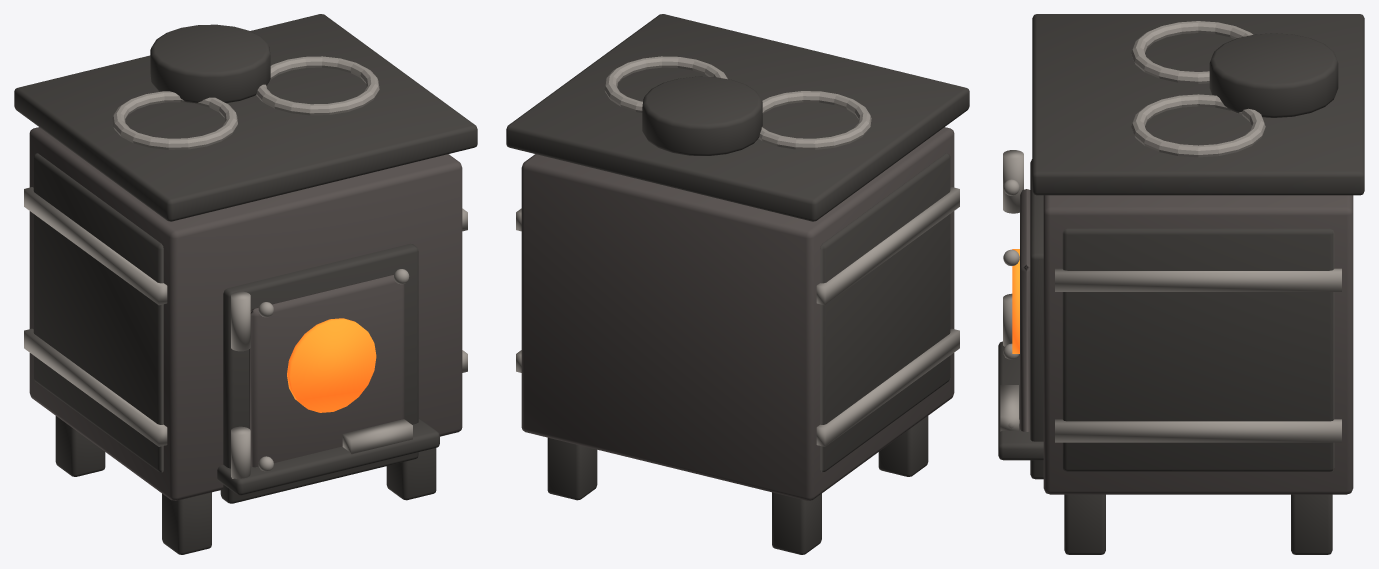
The model's file is wood-stove.glb.
3 views of the same model, side by side, from view 1: azimuth 30°, elevation 25°; view 2: azimuth 150°, elevation 25°; view 3: azimuth 270°, elevation 25° (orthographic). The views are drawn at different scales.
Visible parts, largest first — view 1: merged_soot, merged_metal, merged_metal_light, mica; view 2: merged_metal, merged_soot, merged_metal_light; view 3: merged_soot, merged_metal, merged_metal_light, mica.
Part boxes in pixels (<box>): merged_soot: <box>14,14,477,554</box>; merged_metal: <box>29,127,462,500</box>; merged_metal_light: <box>24,56,467,478</box>; mica: <box>287,318,376,412</box>; merged_metal: <box>521,127,954,500</box>; merged_soot: <box>506,14,969,554</box>; merged_metal_light: <box>516,56,959,446</box>; merged_soot: <box>998,14,1364,554</box>; merged_metal: <box>1020,189,1353,494</box>; merged_metal_light: <box>1000,21,1341,442</box>; mica: <box>1012,249,1019,353</box>.
Size of the model in its own units: 1.01 by 1.26 by 0.97.
